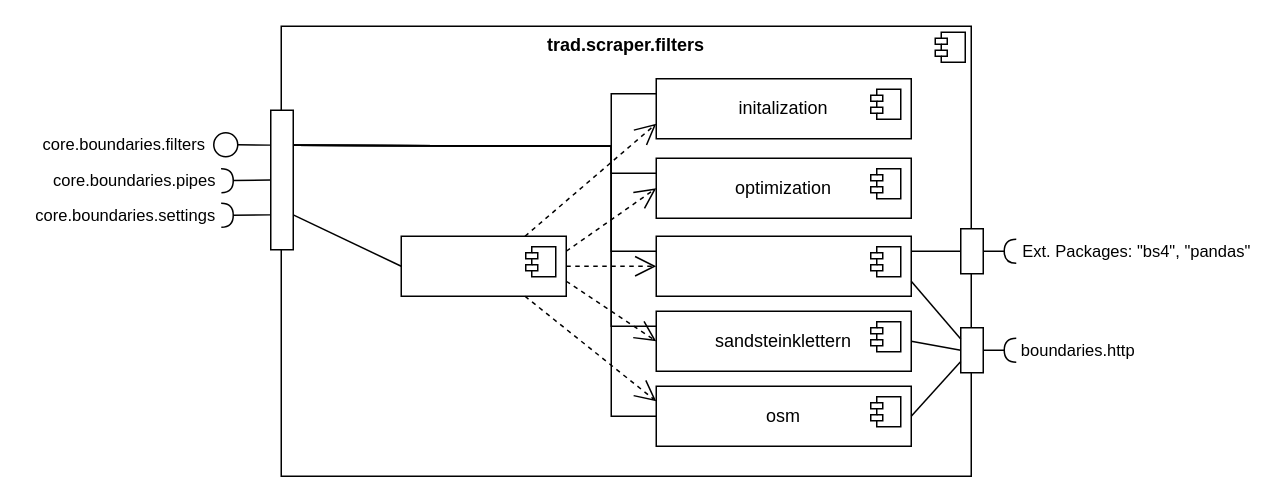
Some shapes in this 1275 by 503 pixel diagram are drawn without their labels. Here are the shapes that lost their labels. From the top down, the centre of each, then its label:
At (x=483, y=265): "factory".
At (x=783, y=265): "teufelsturm".
